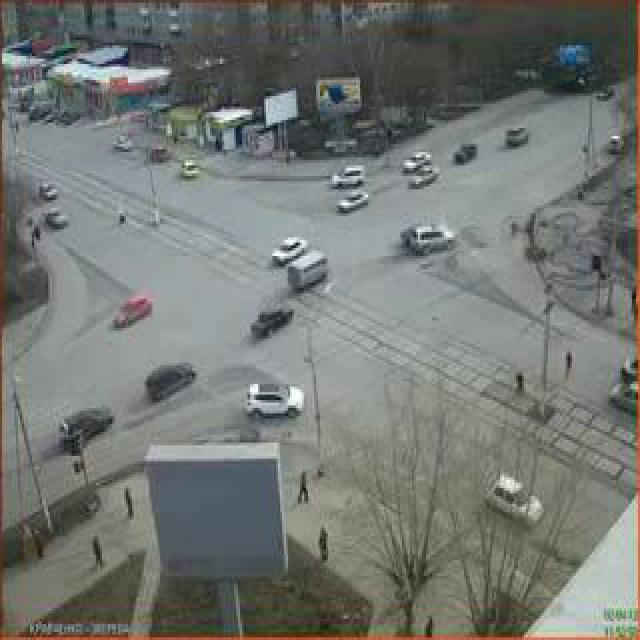road accidents: (305, 71, 505, 380)
